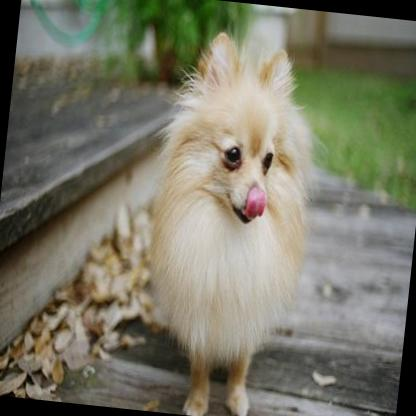Pomeranian: (123, 24, 331, 416)
